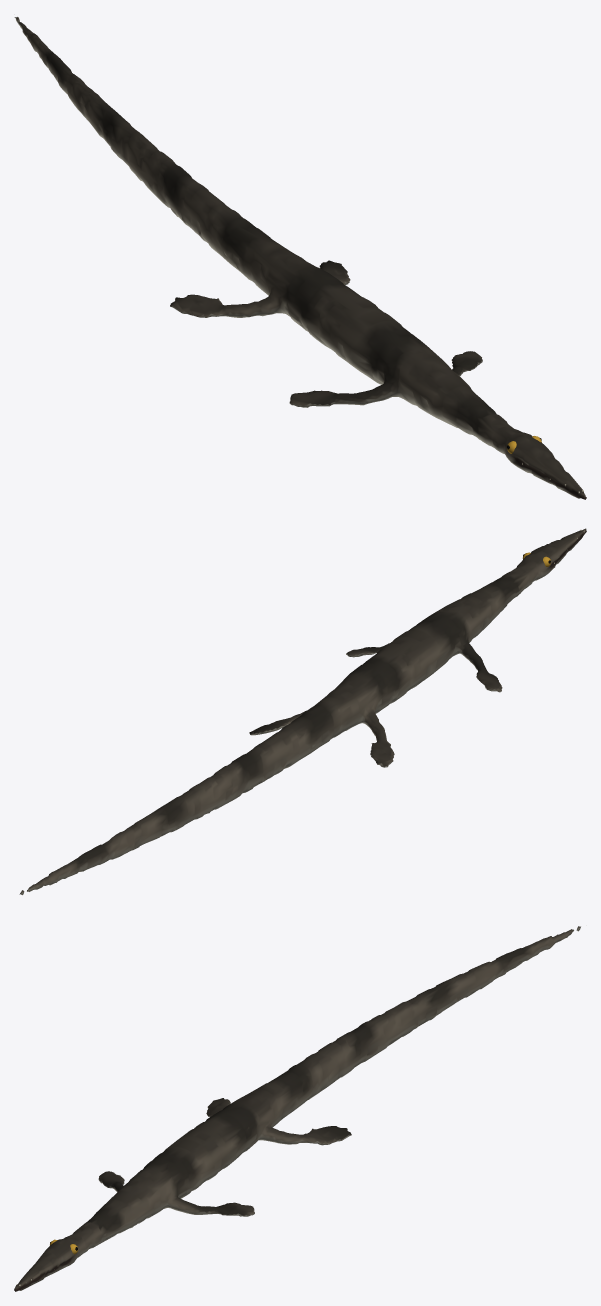
Rendered from Askeptosaurus.fbx.
3 renders of one model, top to bottom at view 1: azimuth 30°, elevation 25°; view 2: azimuth 150°, elevation 25°; view 3: azimuth 330°, elevation 25°, orthographic. The views are drawn at different scales.
Parts seen in each view (by area): view 1: Askeptosaurus; view 2: Askeptosaurus; view 3: Askeptosaurus.
Part boxes in pixels (x1,y1,x2,y2): Askeptosaurus: (14, 17, 586, 499); Askeptosaurus: (19, 528, 586, 895); Askeptosaurus: (14, 926, 580, 1291).
Size of the model in its own units: 0.3429 by 0.102 by 1.99.
